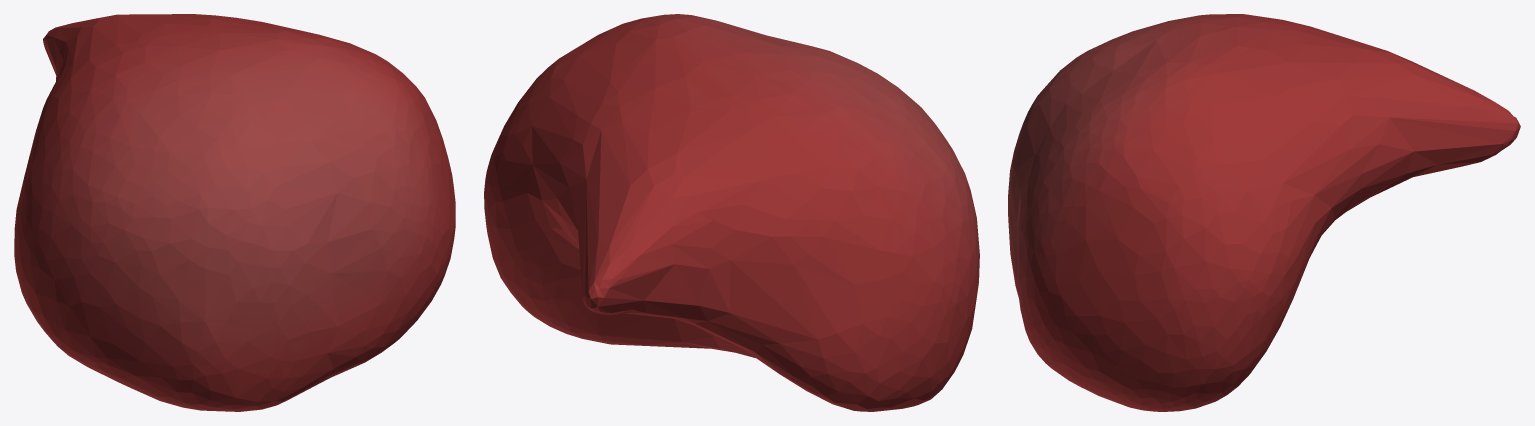
File: Amygdala1.obj
The picture shows the model from 3 angles, left to right: view 1: azimuth 30°, elevation 25°; view 2: azimuth 150°, elevation 25°; view 3: azimuth 270°, elevation 25°; orthographic projection. The views are drawn at different scales.
Visible parts, largest first — view 1: obj0; view 2: obj0; view 3: obj0.
Boxes of the visible parts, x1,y1,x2,y2 form: obj0: (14, 14, 455, 411); obj0: (484, 14, 979, 411); obj0: (1008, 14, 1520, 411).
Bounding box in the file's own units: 11.87 × 8.93 × 12.74.
Materials: 1 (1 with a texture image).
